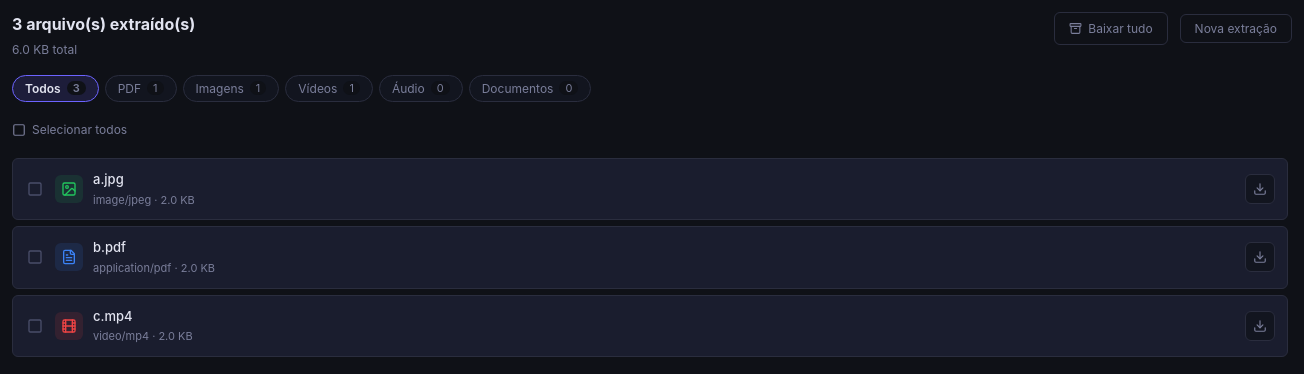
Test: FileList rendering › filters by category and keeps the counts accurate
The image size is (1304, 374).
Click the button "PDF 1" at (141, 88), box 105,75 -> 177,102
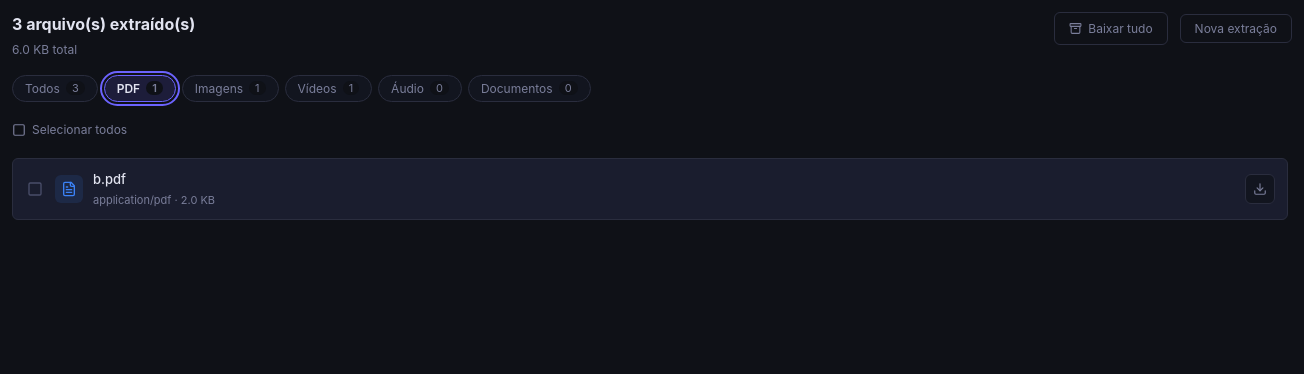
Expected: the text "b.pdf" is shown, 93,171 -> 126,187
Now the button "a.jpg" is gone
Now the button "c.mp4" is gone
